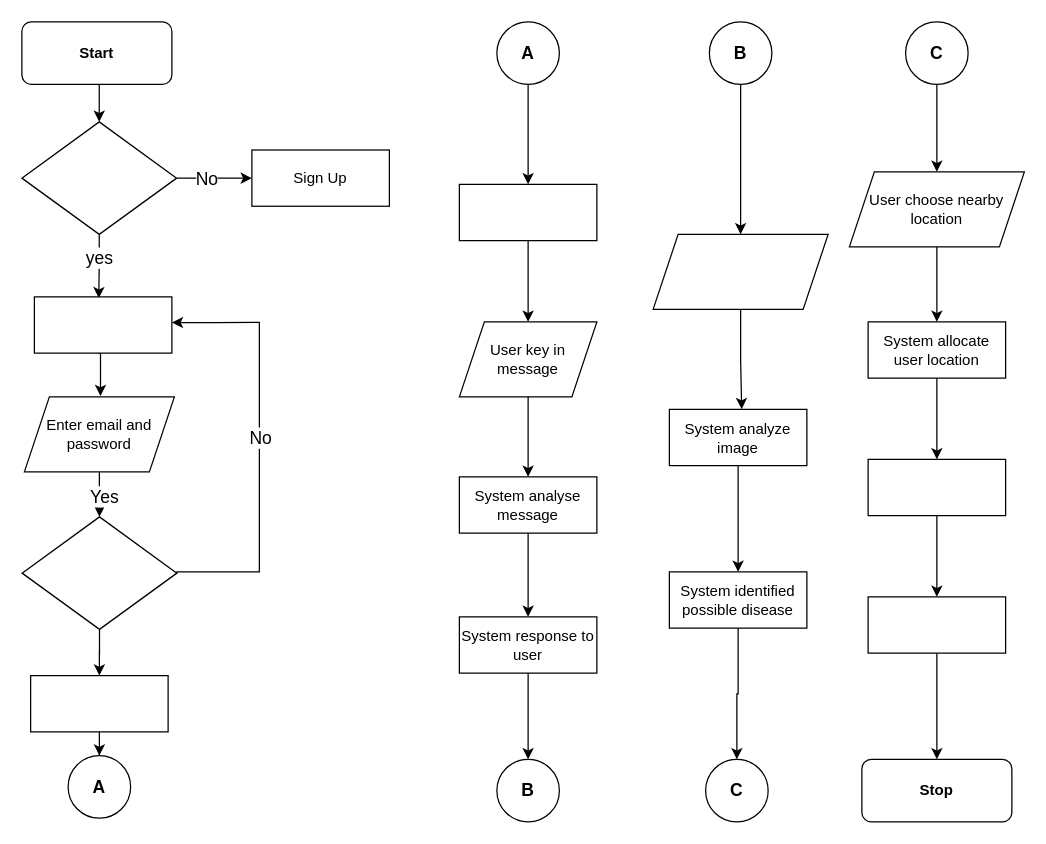
The diagram is 1046 pixels wide and 844 high, and some of its shapes have lost their labels. Here are the shapes that lost their labels. From the top down, the centre of each, then its label:
pixel 99 177: Have an account?
pixel 527 212: System display chatbot
pixel 740 271: User upload picture
pixel 102 324: Sign in
pixel 936 487: System detect nearest clinic
pixel 99 572: Authorized User
pixel 936 624: Pop up map location
pixel 98 703: Log in to system
